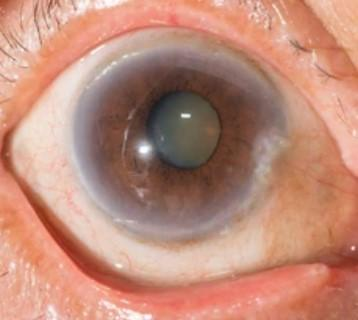eye: (73, 46, 278, 237)
